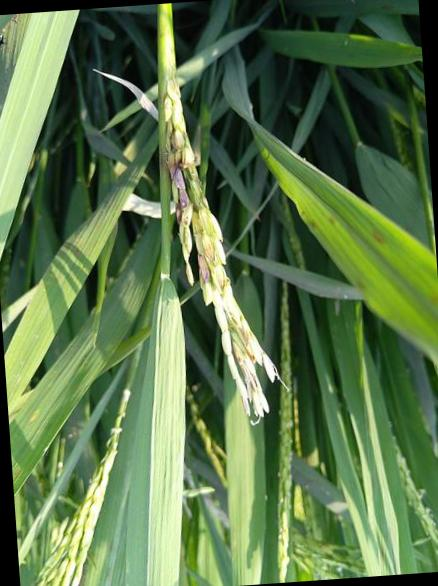Panicle Blight: (165, 122, 194, 176), (173, 165, 190, 208), (232, 332, 249, 363), (196, 251, 211, 283), (201, 229, 215, 262), (174, 201, 182, 235)
